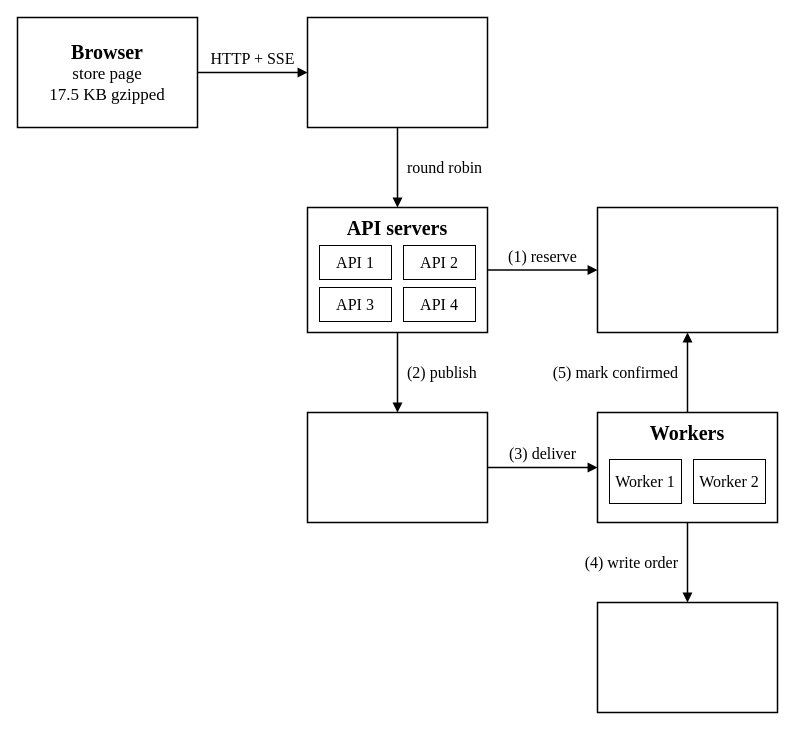
Some shapes in this 796 by 731 pixel diagram are drawn without their labels. Here are the shapes that lost their labels. From the top down, the centre of each, then its label:
pixel 397 72: NGINX gateway static files (cached) rate limit, bot filter load balancing
pixel 687 269: Redis stock counter buyer set idempotency keys order status
pixel 397 467: RabbitMQ checkout.orders dead-letter queue
pixel 687 657: PostgreSQL source of truth CHECK (stock >= 0) unique constraints
